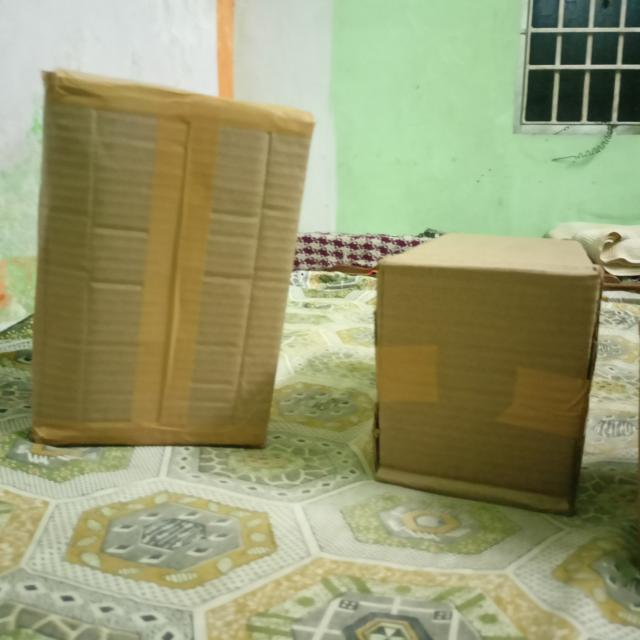box: (38, 77, 315, 447), (377, 268, 598, 513)
